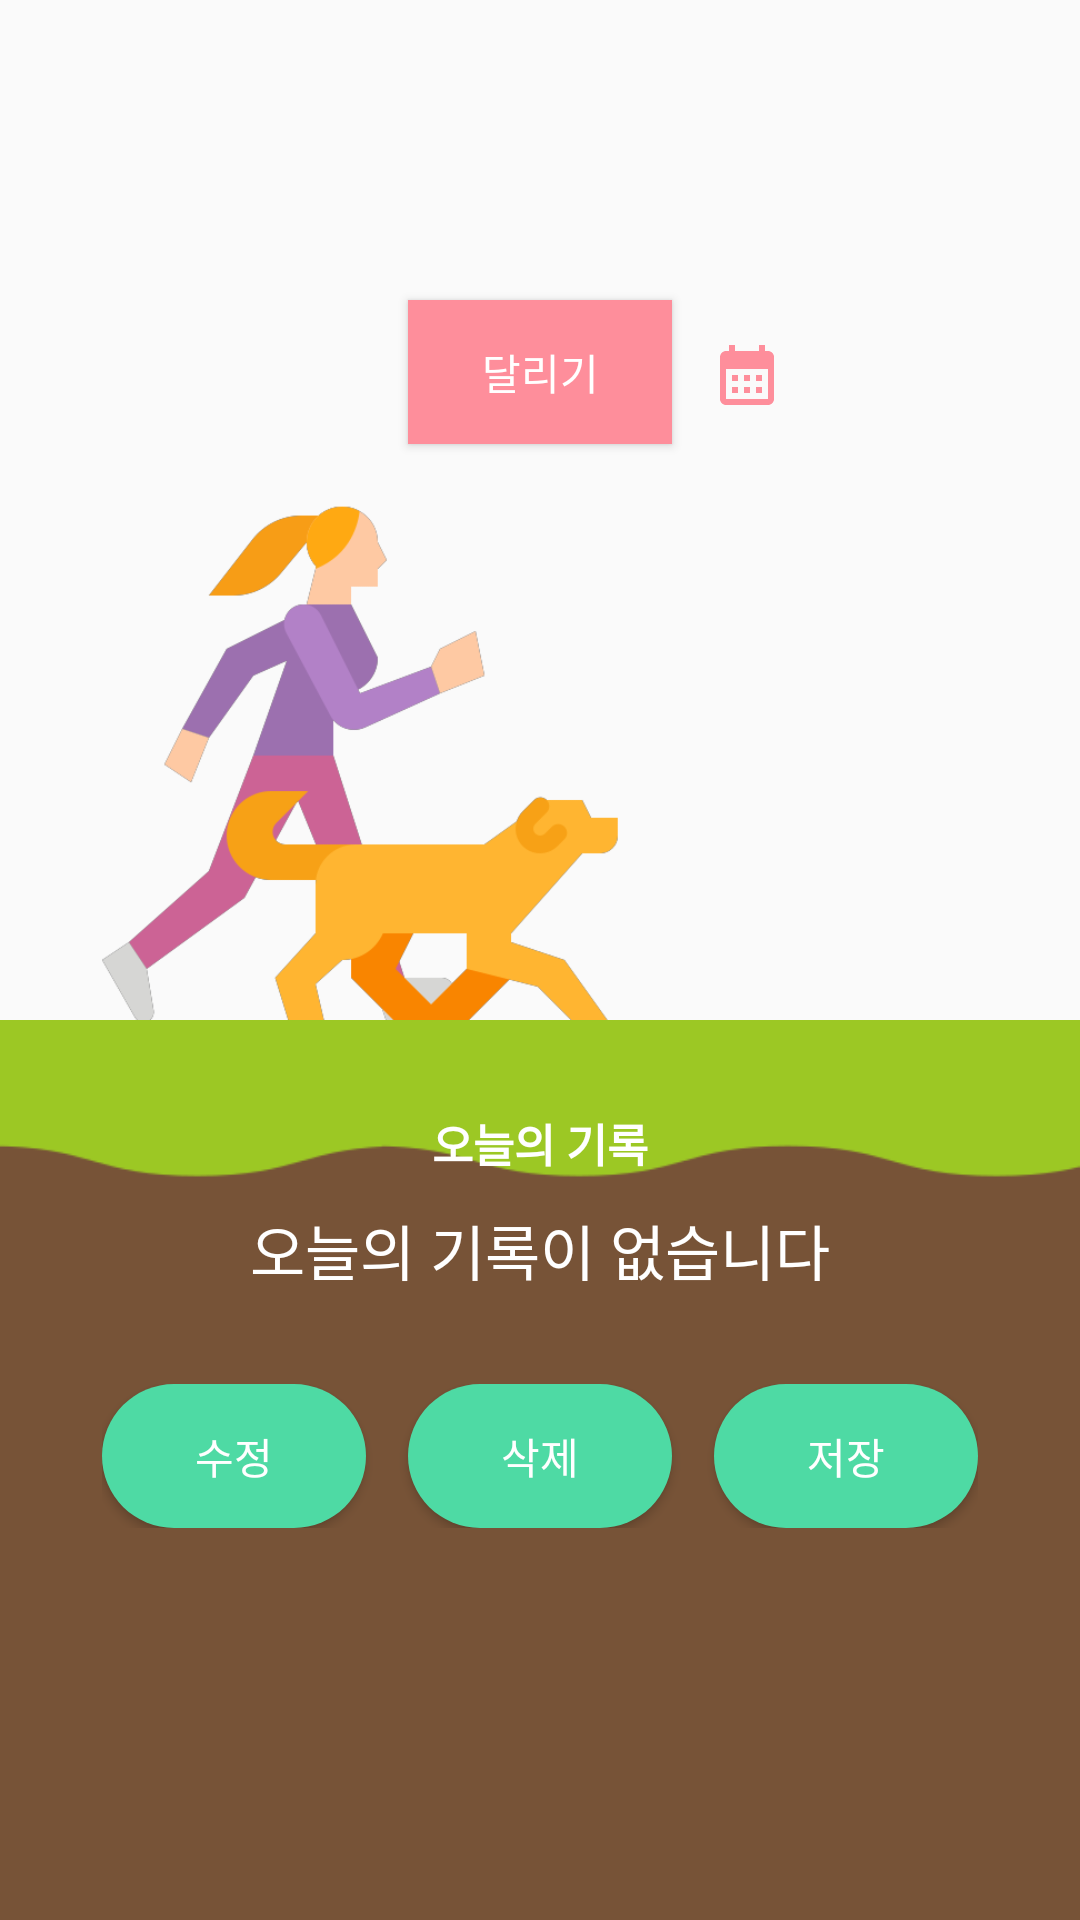

Icon click points for this 1080 x 1920 phone screenshot, format [x,y]:
calendar: [747,375]
